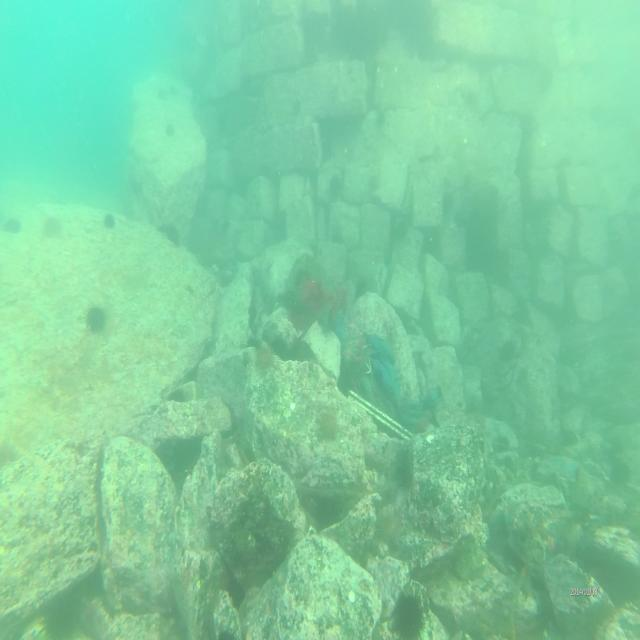echinus: (391, 585, 428, 640), (373, 506, 400, 548), (319, 405, 340, 440), (255, 342, 278, 372), (83, 303, 104, 333), (0, 214, 22, 233), (104, 210, 115, 229)
